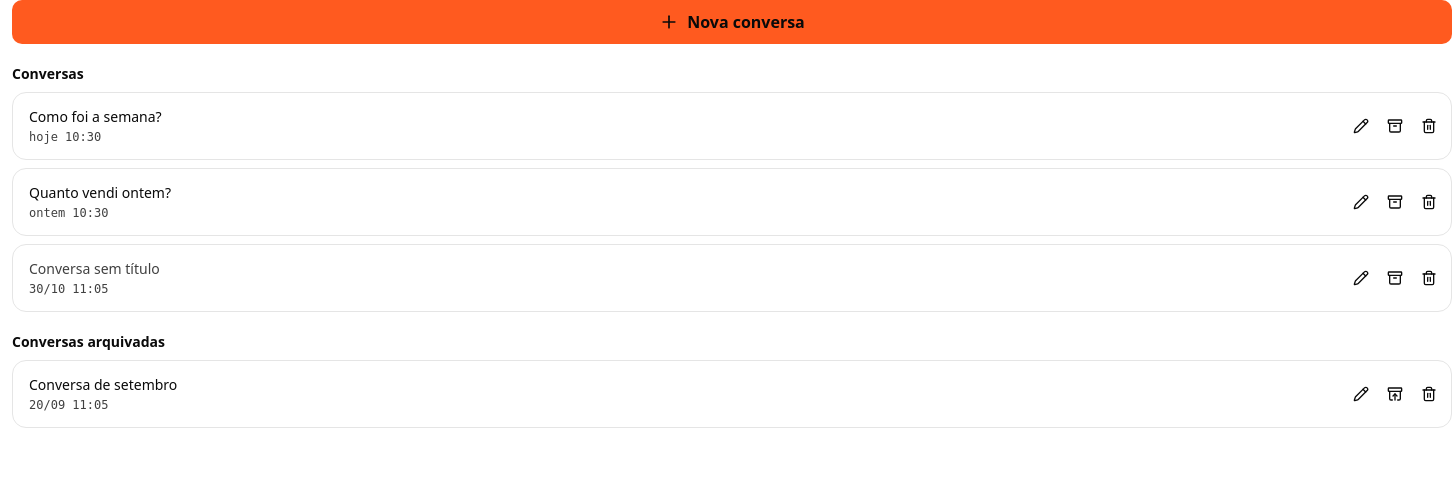
Test: lista de conversas do mentor: arquivar › quando a ação recusa, a conversa fica na principal com a frase
Click the button named "Arquivar a conversa \"Quanto vendi ontem?\"" at (1395, 202), box [1379, 186, 1411, 218]
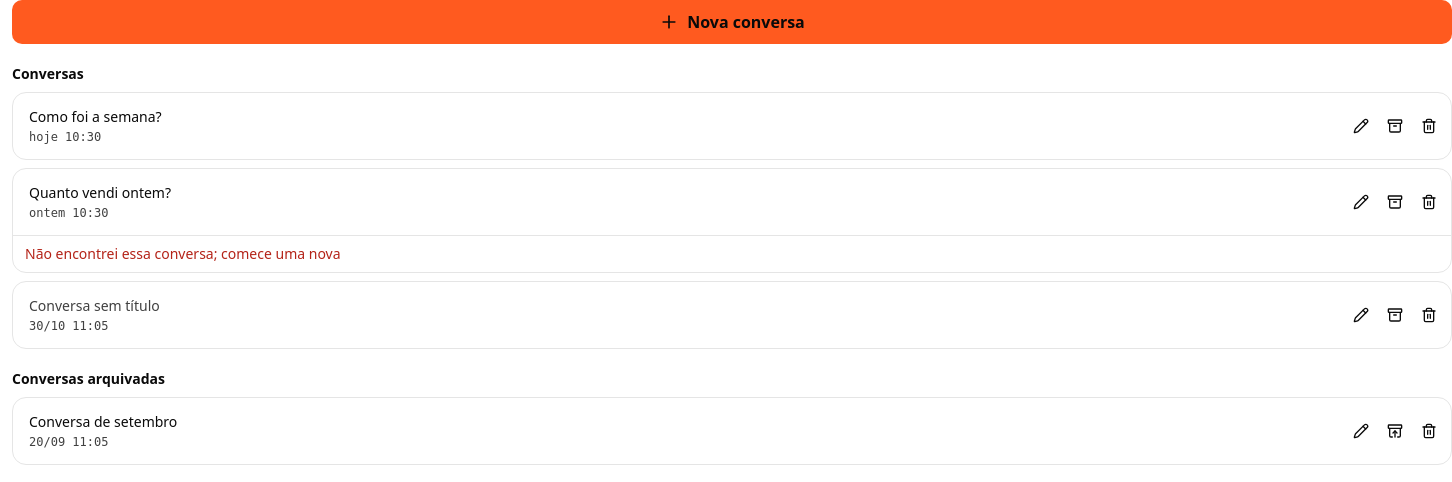
Check: the link "Quanto vendi ontem? ontem 10:30" is shown, box [29, 183, 171, 220]
Check: the message "não encontrei essa conversa; comece uma nova" is shown, box [13, 235, 1451, 272]
